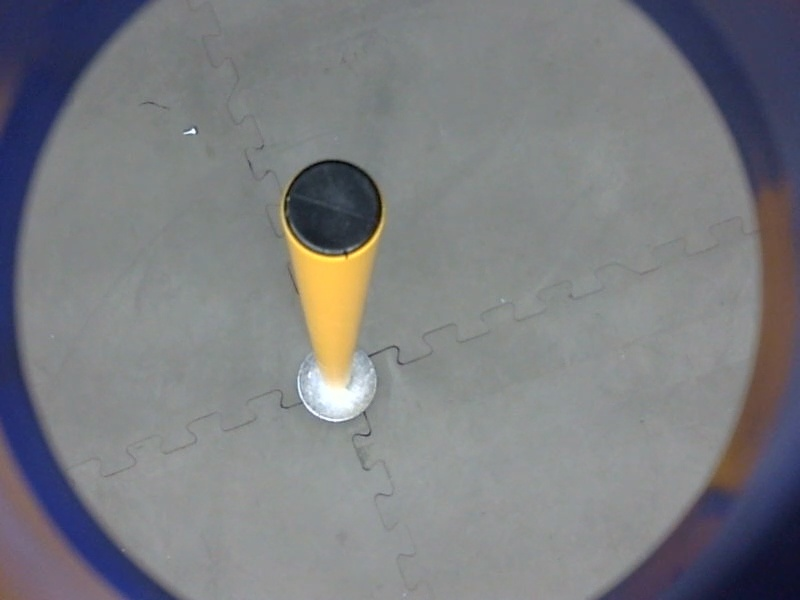tip: (271, 153, 391, 264)
